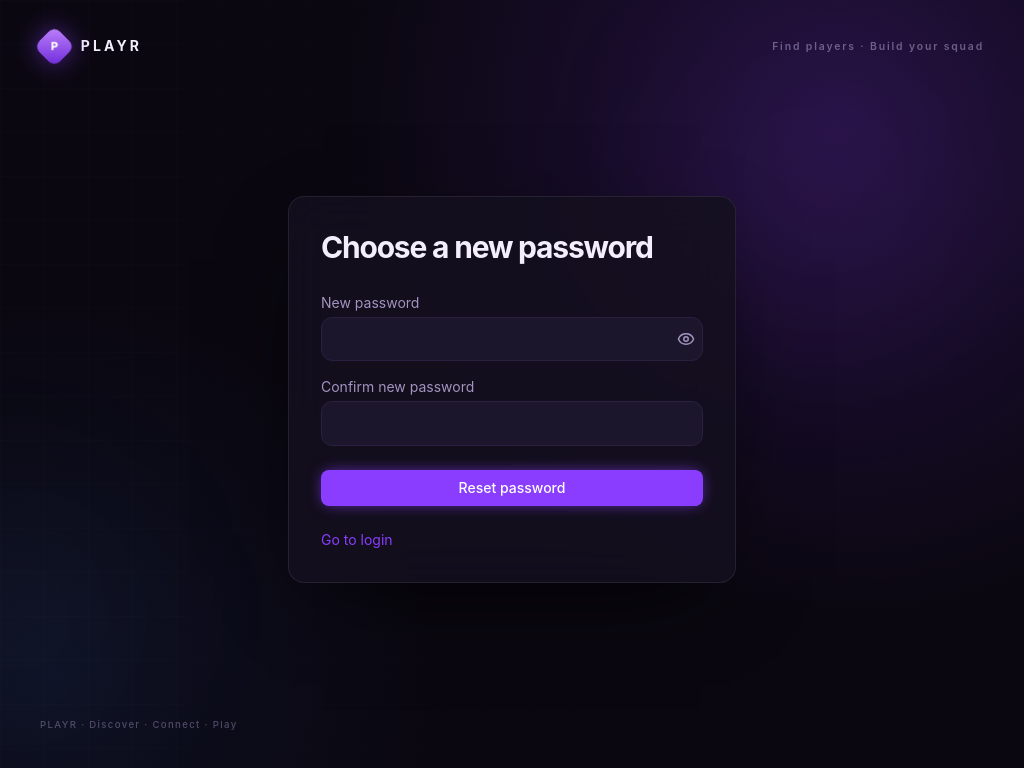
ResetPasswordPage › resets the password using the query parameters
Type "NewPassword123" into the password field labelled "New password" at point(512, 339), box [321,317,703,361]
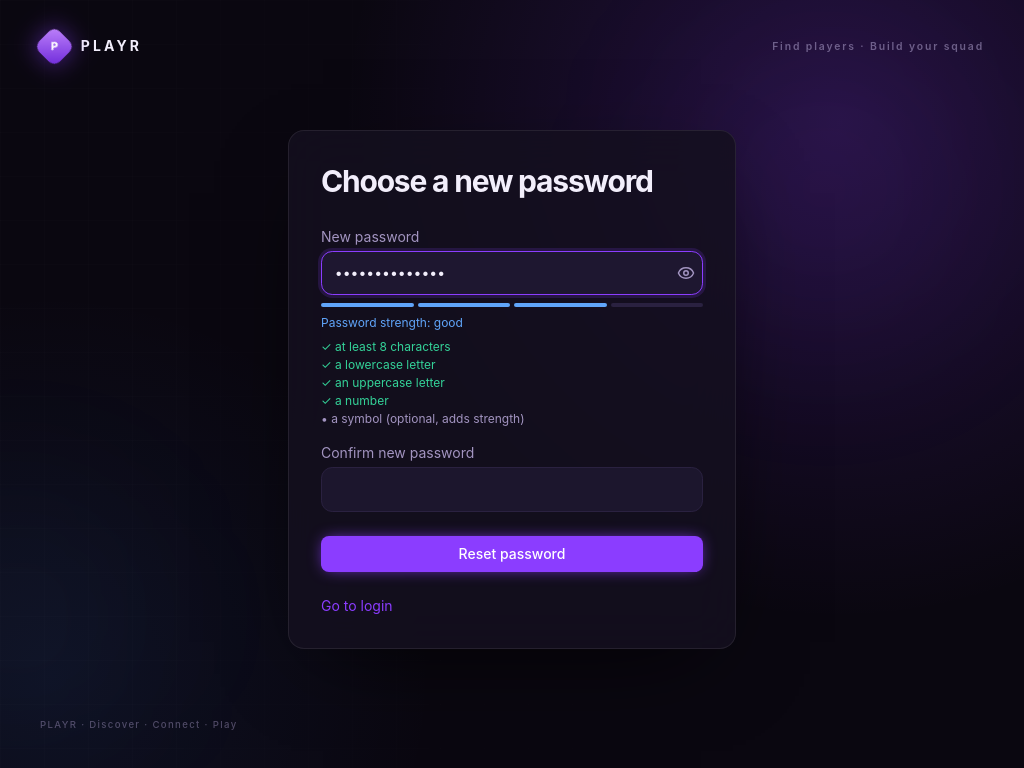
Type "NewPassword123" into the password field labelled "Confirm new password" at point(512, 489), box [321,467,703,512]
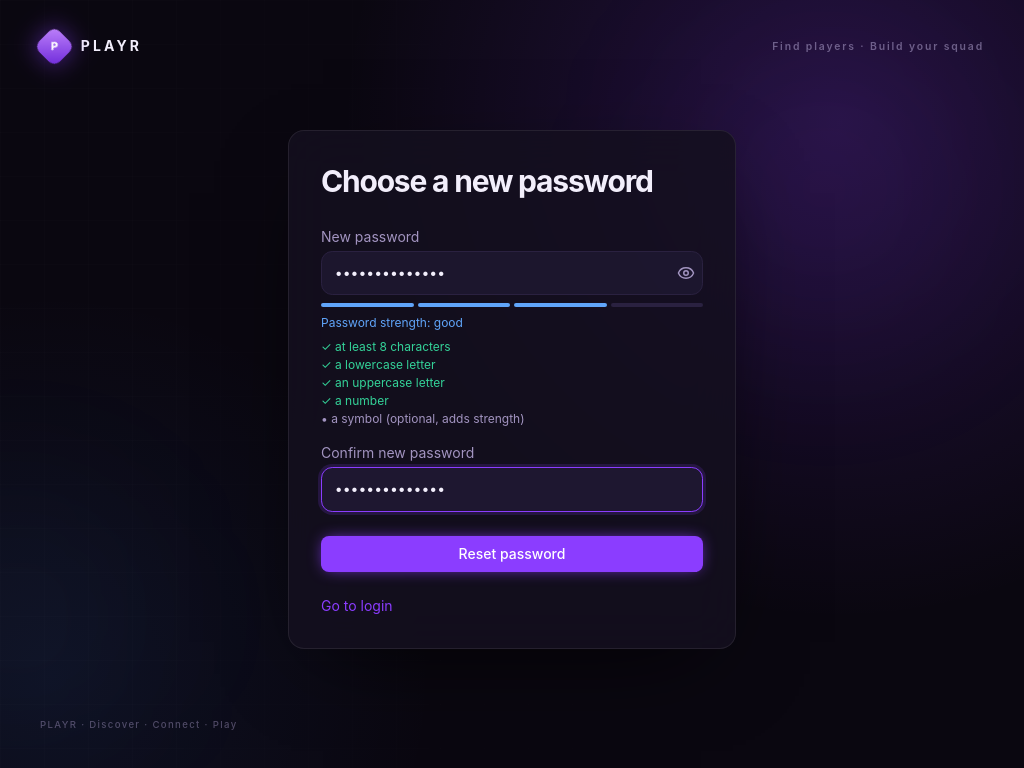
Click the button "Reset password" at point(512, 554), box [321,536,703,572]
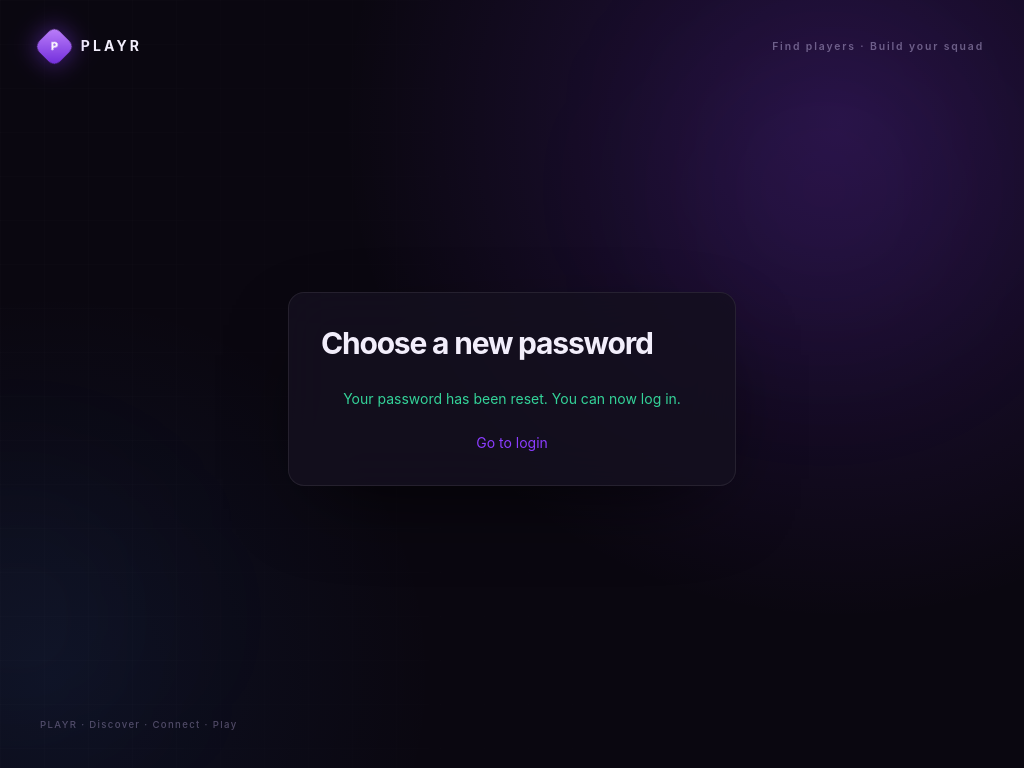
expect the text "Your password has been reset. You can now log in." is shown: met, box [321,389,703,409]
